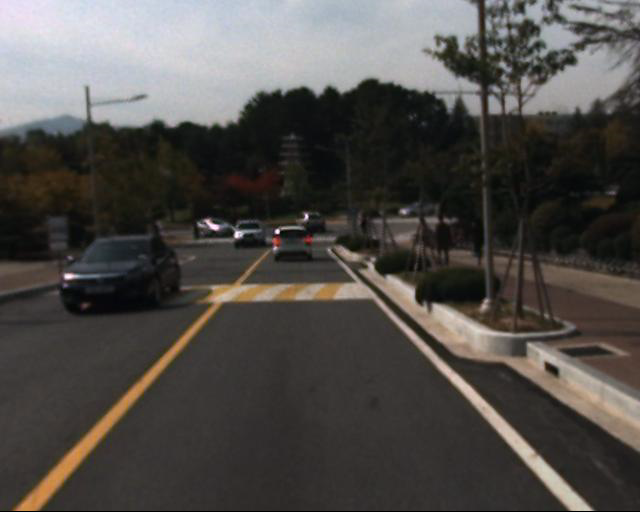person: (464, 206, 499, 271), (431, 207, 463, 271)
